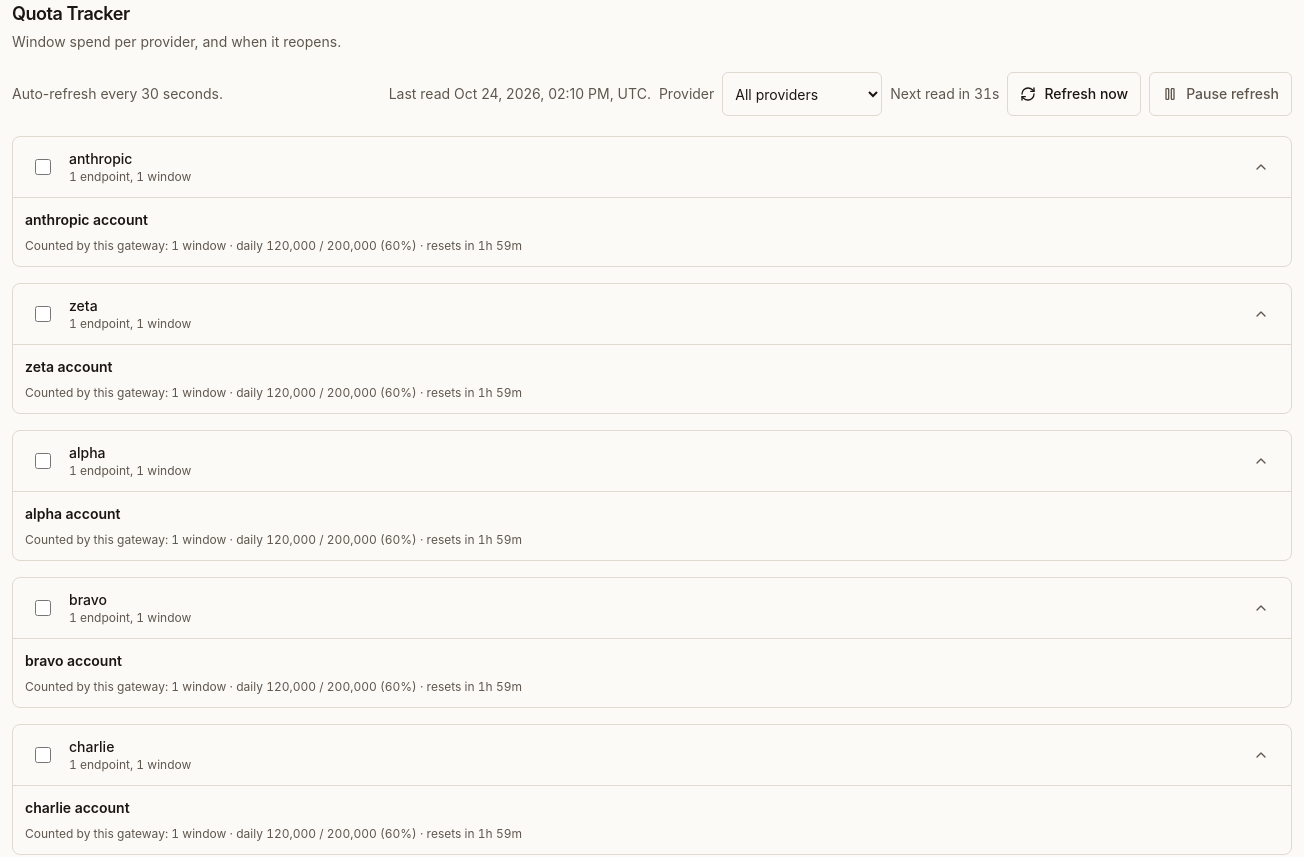
Test case: the states that already worked still work › pages windowless groups the gateway counts, and clears selection on the turn
Expected: the heading "anthropic" is shown, [69,150,132,167]
Step 1. Click the checkbox named "Select anthropic for bulk folding" → point(43, 167), box [35,159,51,175]
(page scrolled)
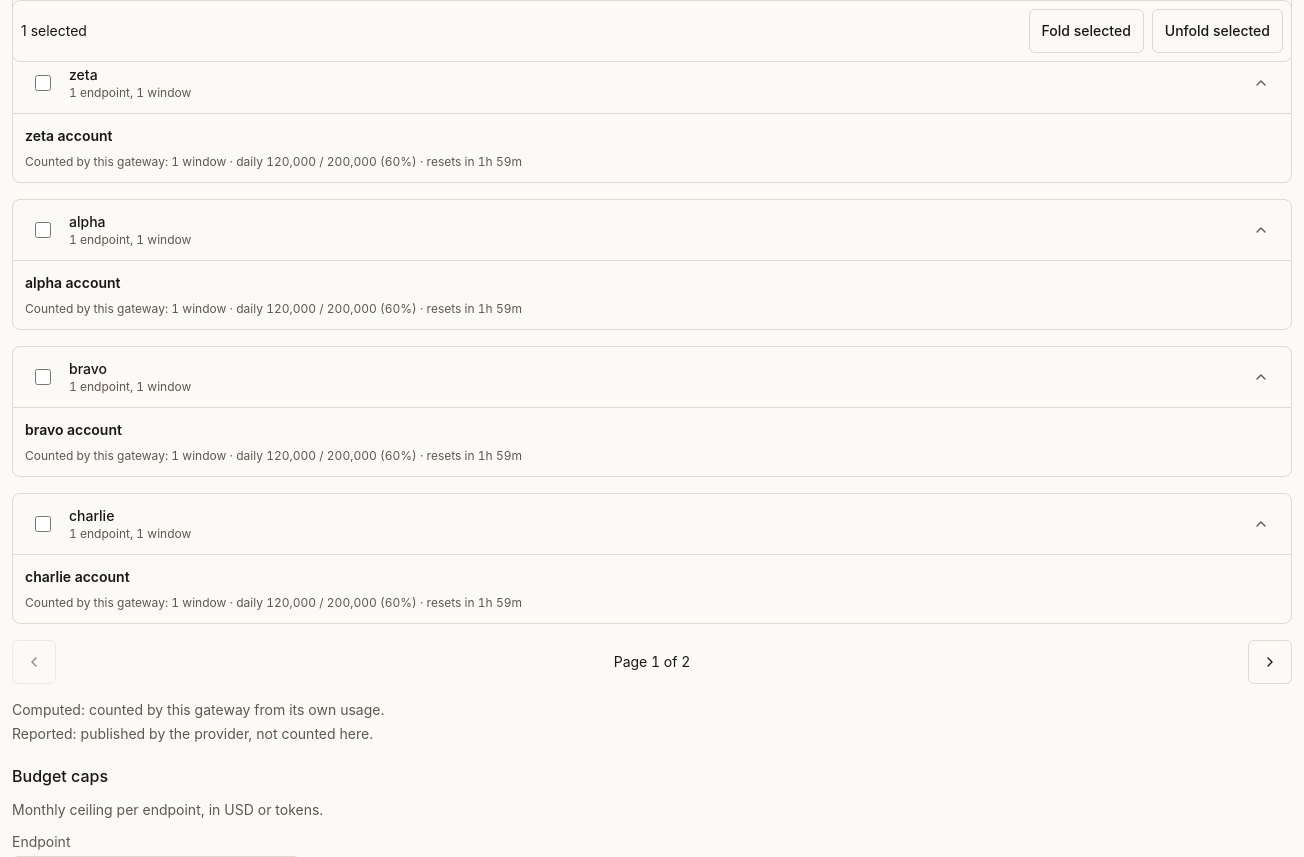
Expected: the text "1 selected" is shown, [21,21,87,41]
Step 2. Click the button named "Next page" → point(1270, 662), box [1248,640,1292,684]
(page scrolled)
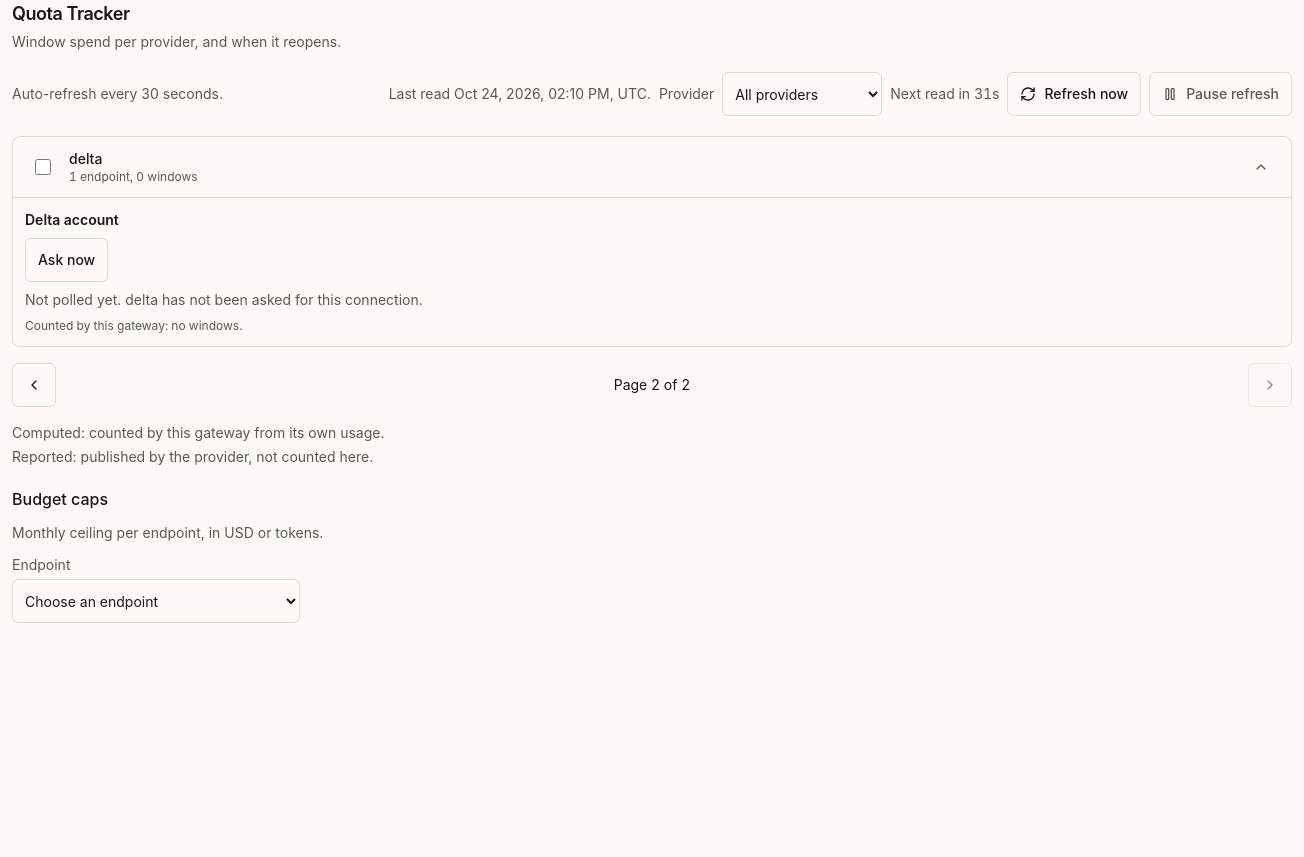
Expected: the heading "delta" is shown, [69,150,102,167]
Expected: the text "Counted by this gateway: no windows." is shown, [25,318,242,333]
Expected: the text "1 selected" is gone
